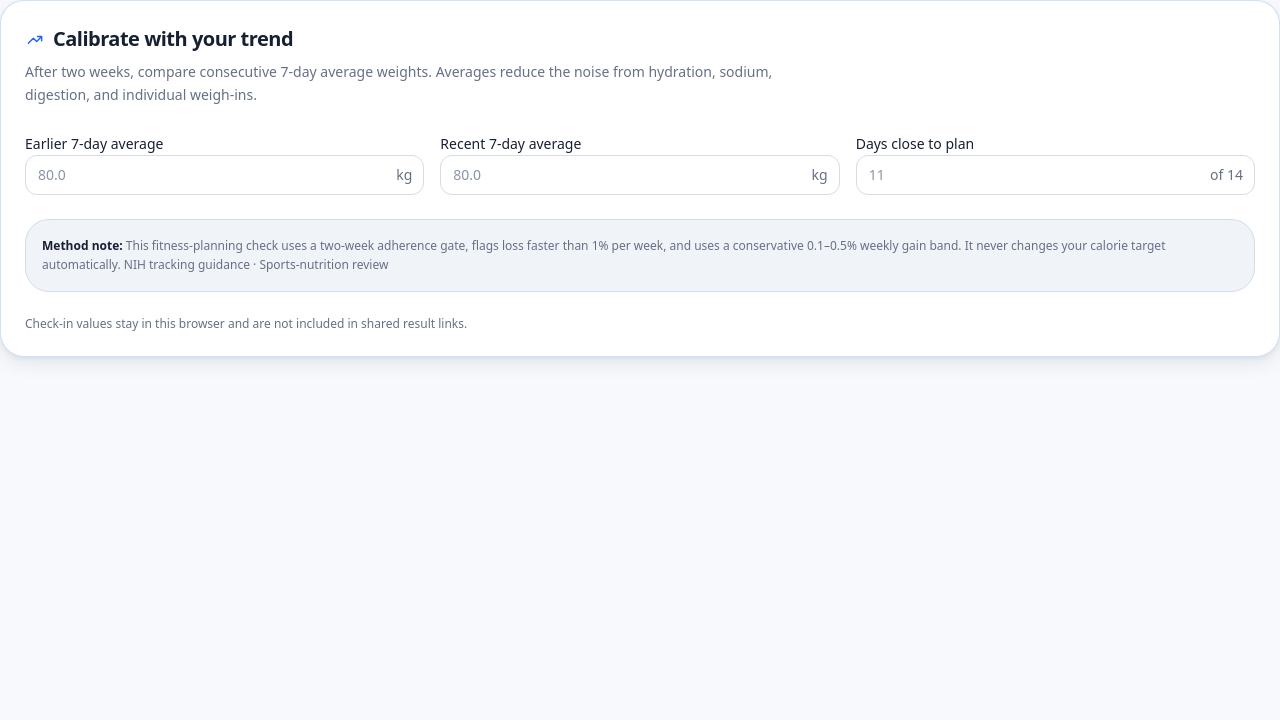
Test case: CalibrationPanel › calculates a goal-aware result from two weekly averages
This screenshot has width=1280, height=720.
In the number field labelled "Earlier 7-day average": (225, 174) 25,154 -> 424,194, type "80"
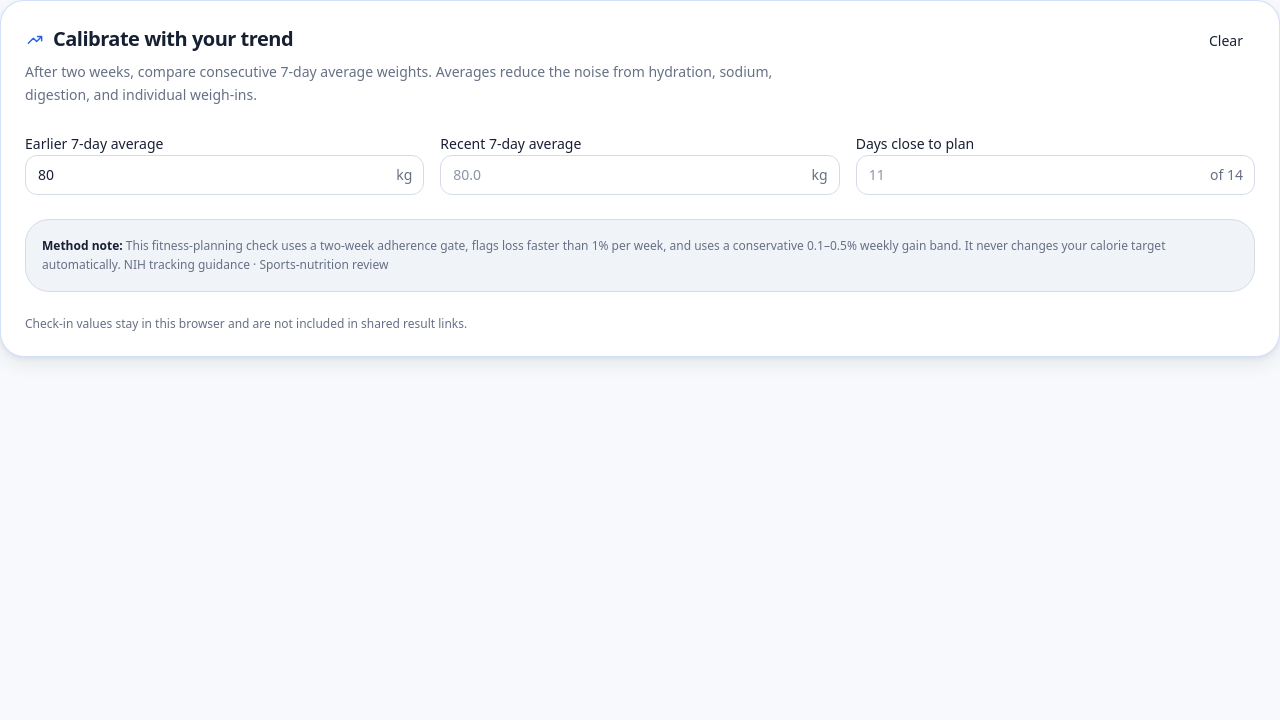
In the number field labelled "Recent 7-day average": (640, 174) 440,154 -> 840,194, type "79.6"
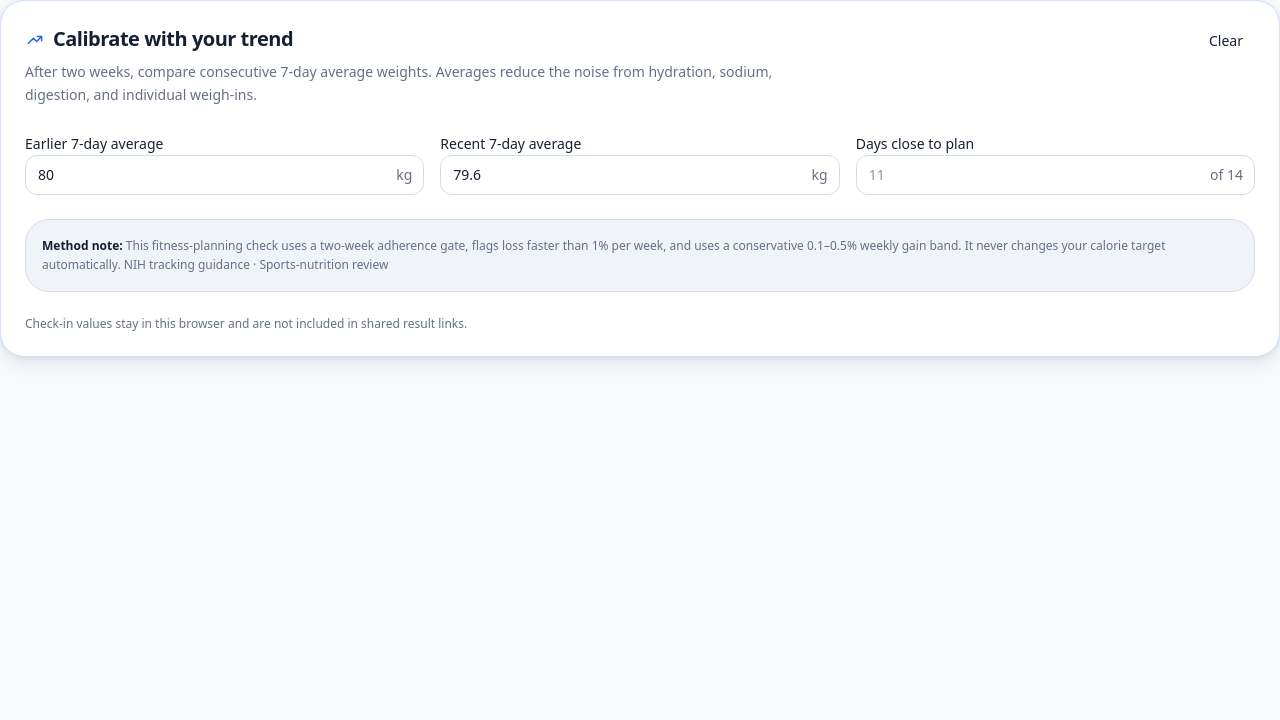
In the number field labelled "Days close to plan": (1055, 174) 856,154 -> 1255,194, type "13"
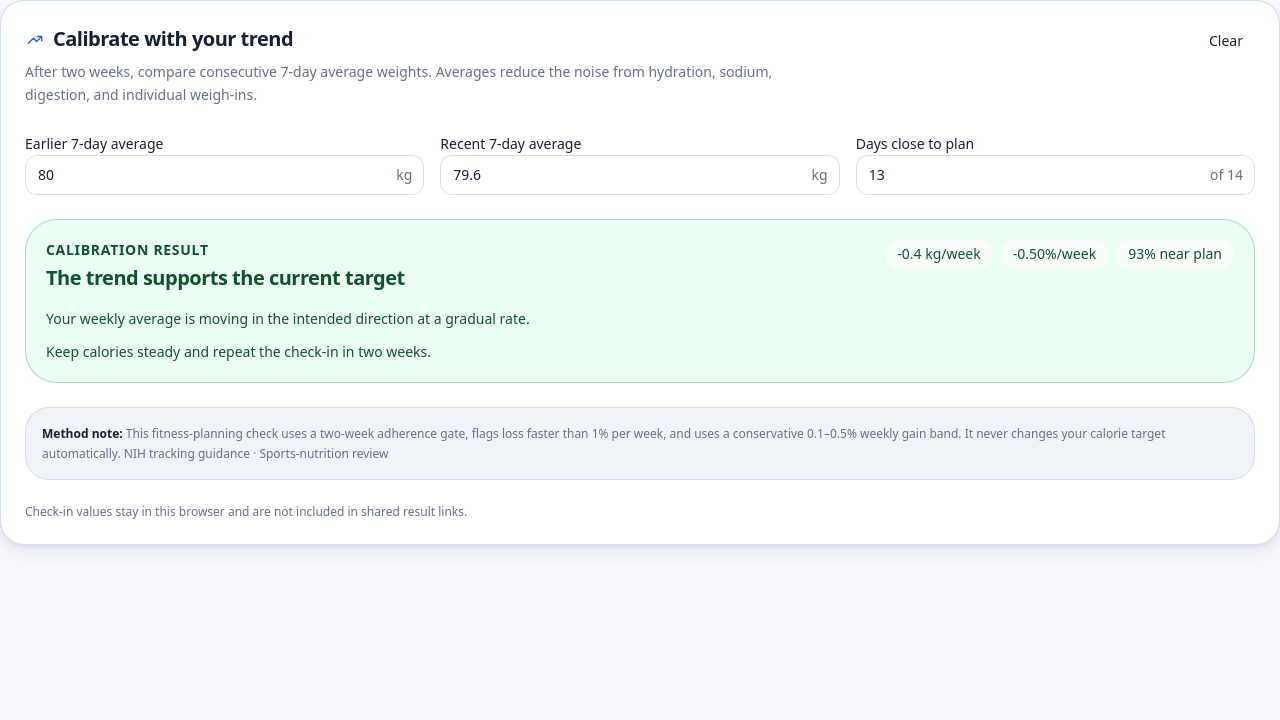
Expected: the heading "The trend supports the current target" is shown, 46,264 -> 405,292
Expected: the text "-0.50%/week" is shown, 1001,240 -> 1108,268
Expected: the text "93% near plan" is shown, 1116,240 -> 1234,268
